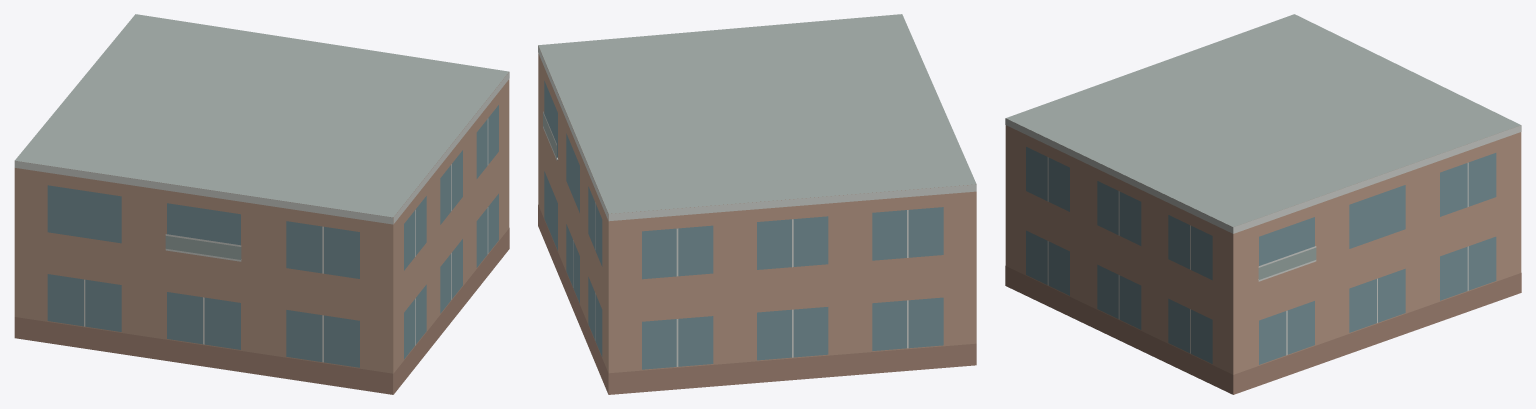
Rendered from survey-upis-32585069.glb.
The picture shows the model from 3 angles, left to right: view 1: azimuth 30°, elevation 25°; view 2: azimuth 150°, elevation 25°; view 3: azimuth 270°, elevation 25°; orthographic projection. The views are drawn at different scales.
Parts seen in each view (by area): view 1: survey-upis-32585069.tmp; view 2: survey-upis-32585069.tmp; view 3: survey-upis-32585069.tmp.
Boxes of the visible parts, <box> form: survey-upis-32585069.tmp: <box>14,14,509,394</box>; survey-upis-32585069.tmp: <box>538,14,976,394</box>; survey-upis-32585069.tmp: <box>1005,14,1521,394</box>.
Size of the model in its own units: 16.65 by 6.1 by 17.02.
